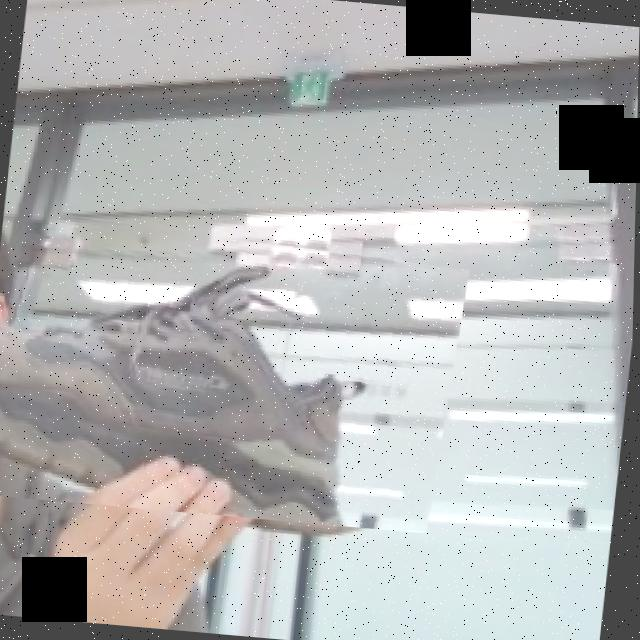shoe: (0, 210, 472, 535)
